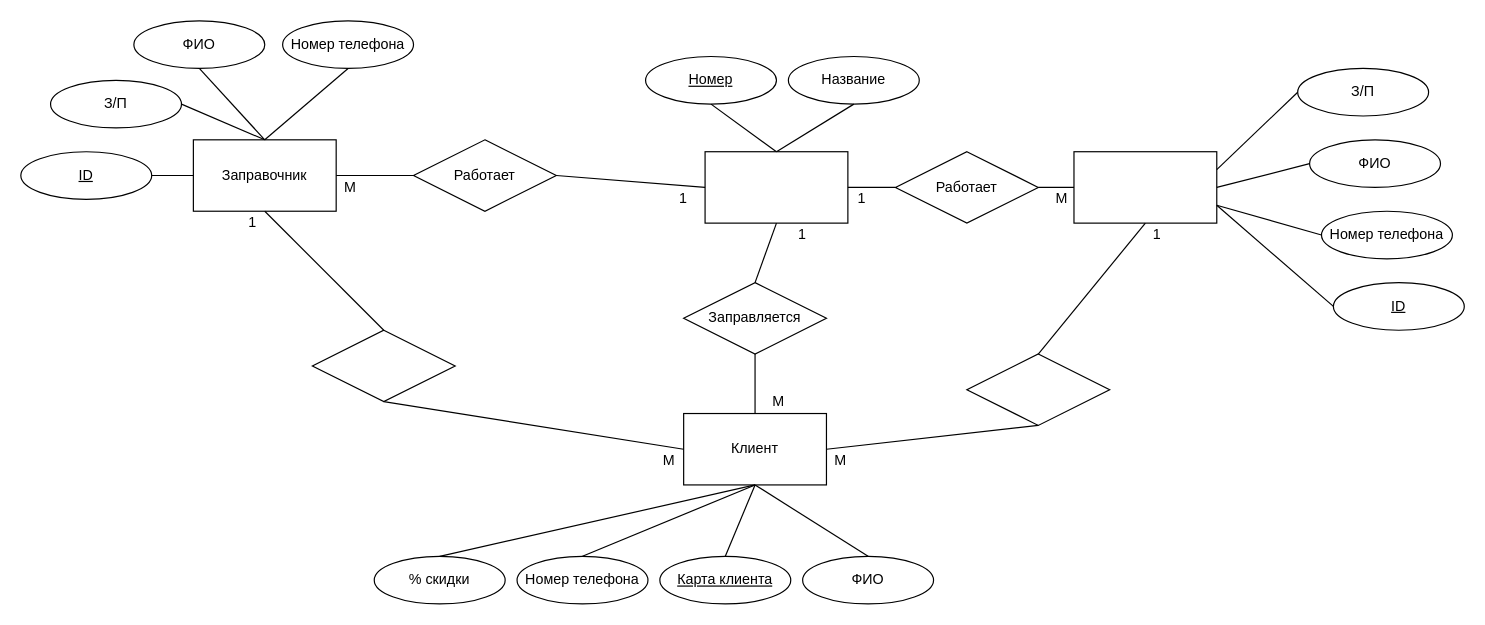
The diagram is 1485 pixels wide and 625 high, and some of its shapes have lost their labels. The shapes that lost their labels are listed below. From the top down, each one's centre as x and y in pixels, then its label:
point (776, 187): Автозаправочная станция
point (1145, 187): Кассир
point (383, 365): Заправляет
point (1038, 389): Обслуживает
